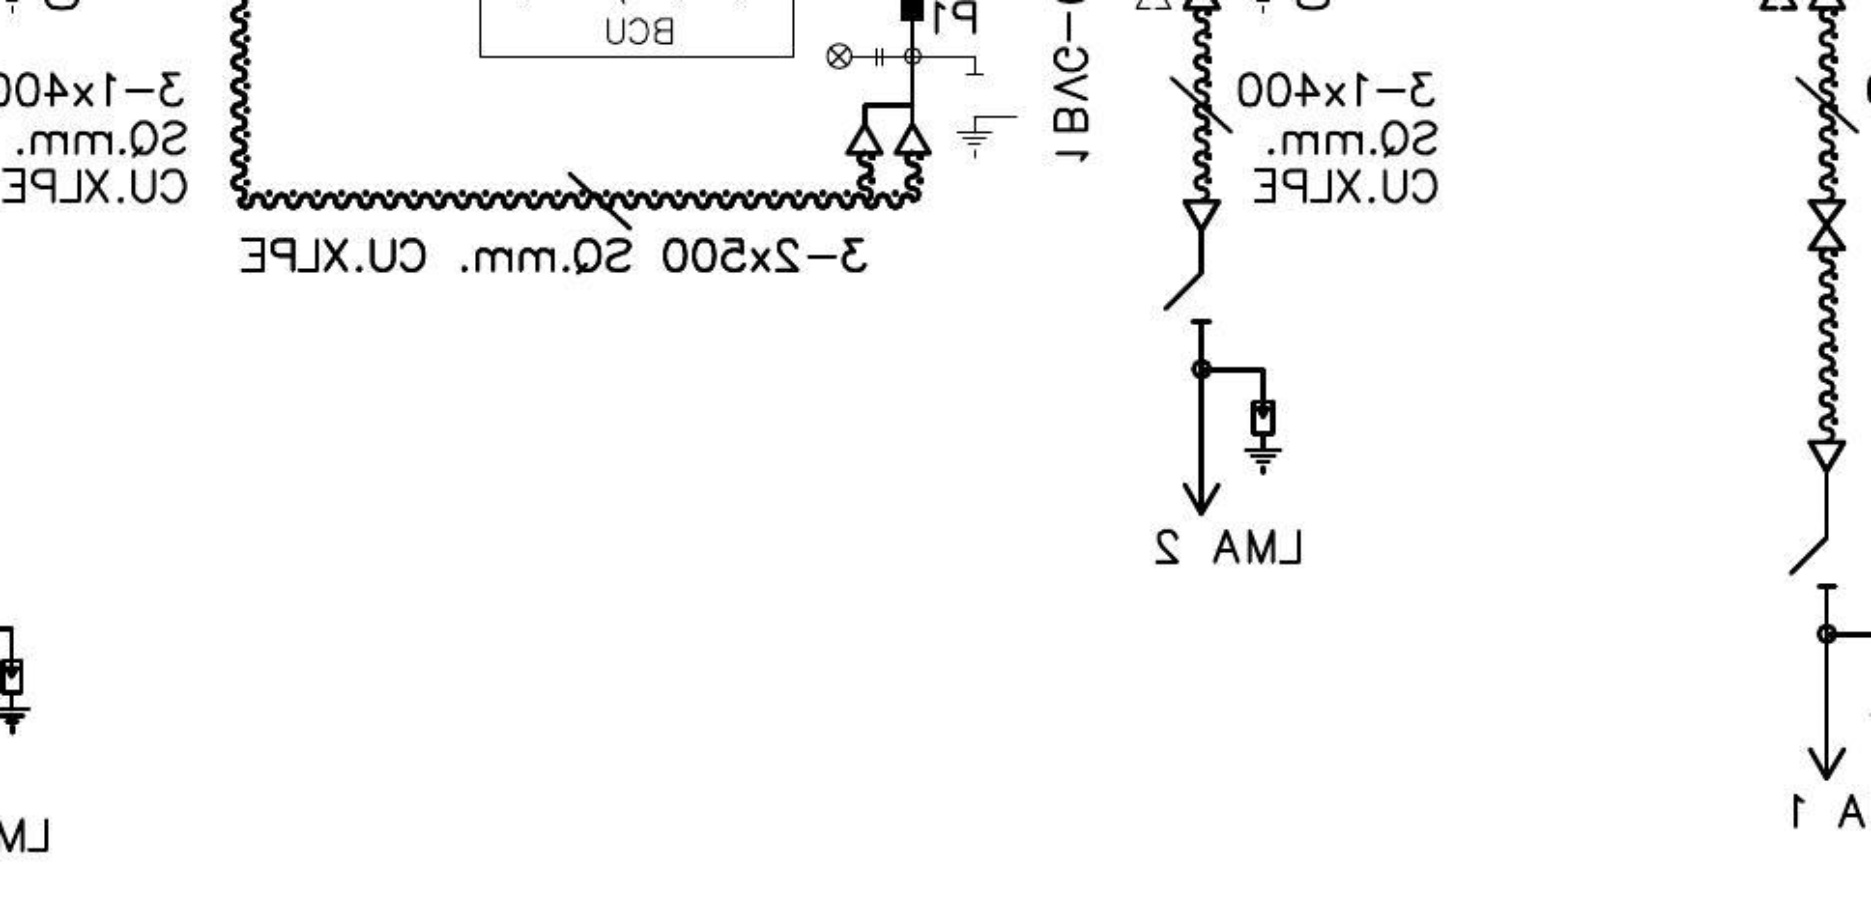22_ds_la_out: (1162, 271, 1283, 519)
22_gs: (953, 70, 1019, 159)
22_ll: (825, 42, 884, 72)
terminator_double: (844, 101, 934, 157)
terminator_single: (1804, 438, 1848, 473), (1180, 197, 1223, 233)
terminator_splicing_kits: (1807, 198, 1847, 252)
